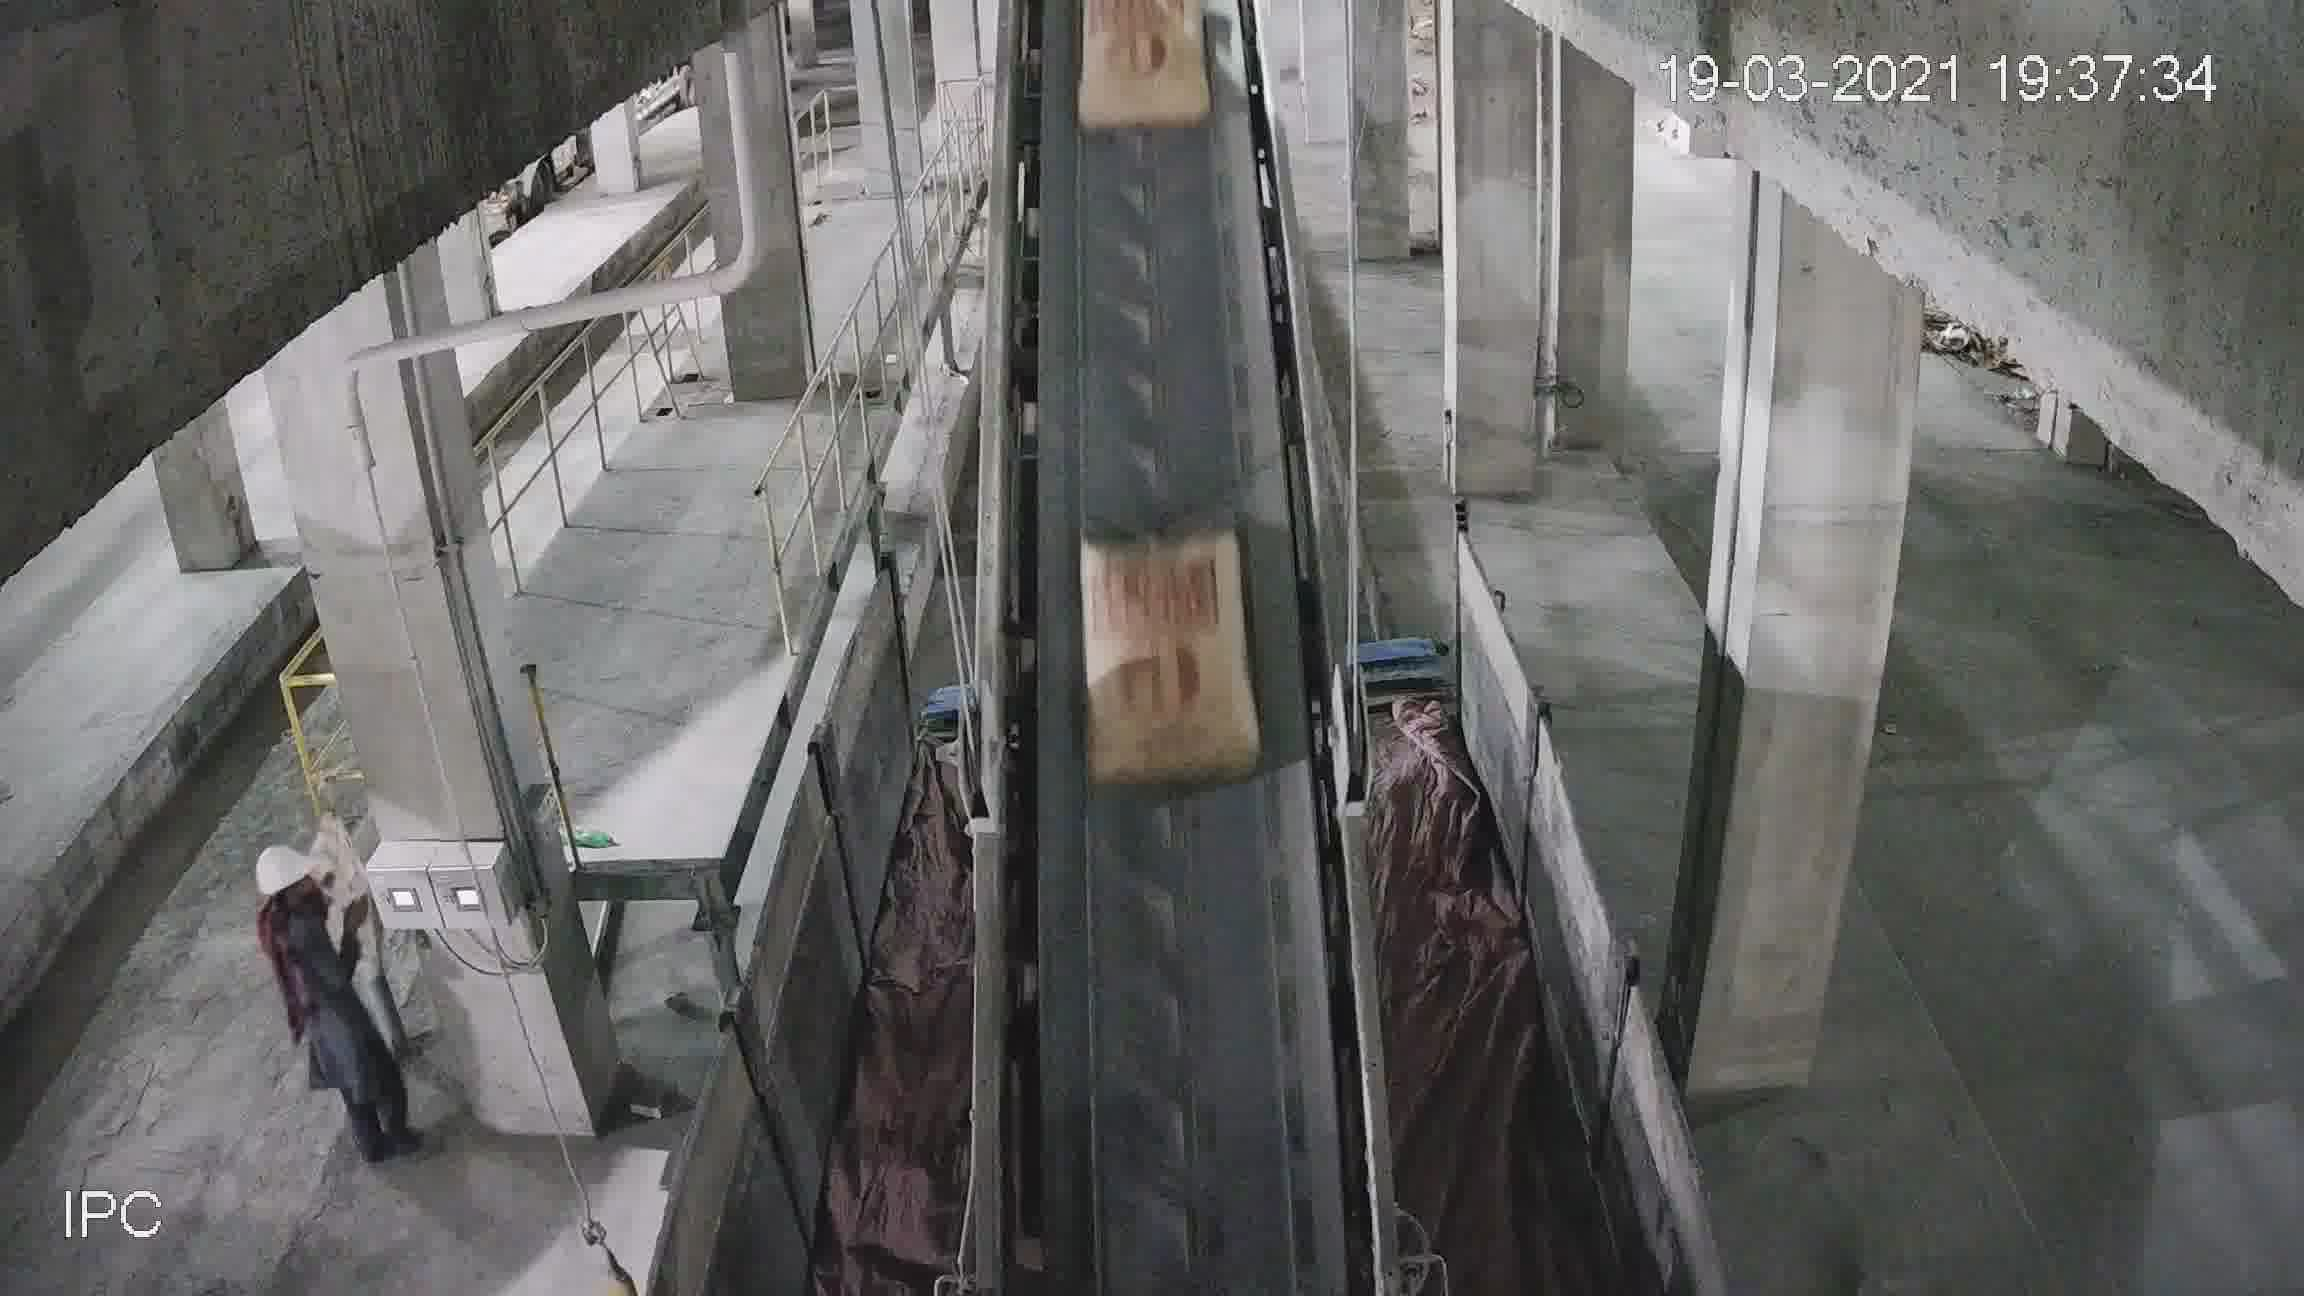bag: (1078, 533, 1252, 780), (1071, 33, 1217, 116)
belt: (980, 55, 1353, 1204)
